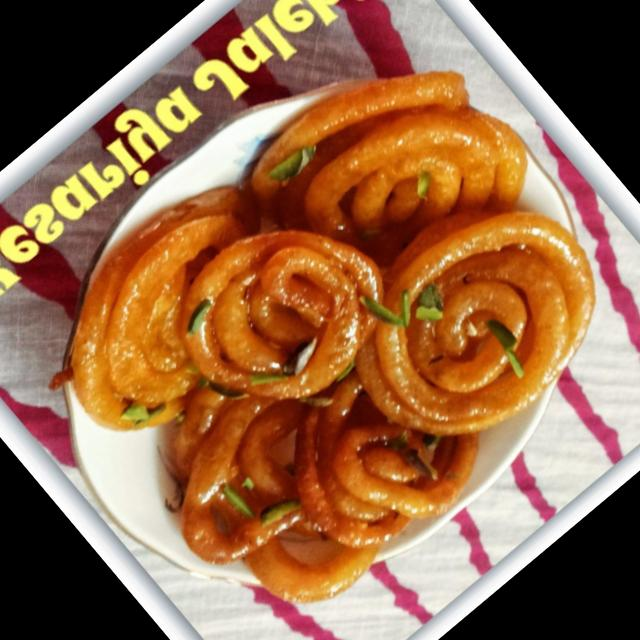jalebi: (5, 3, 640, 640)
